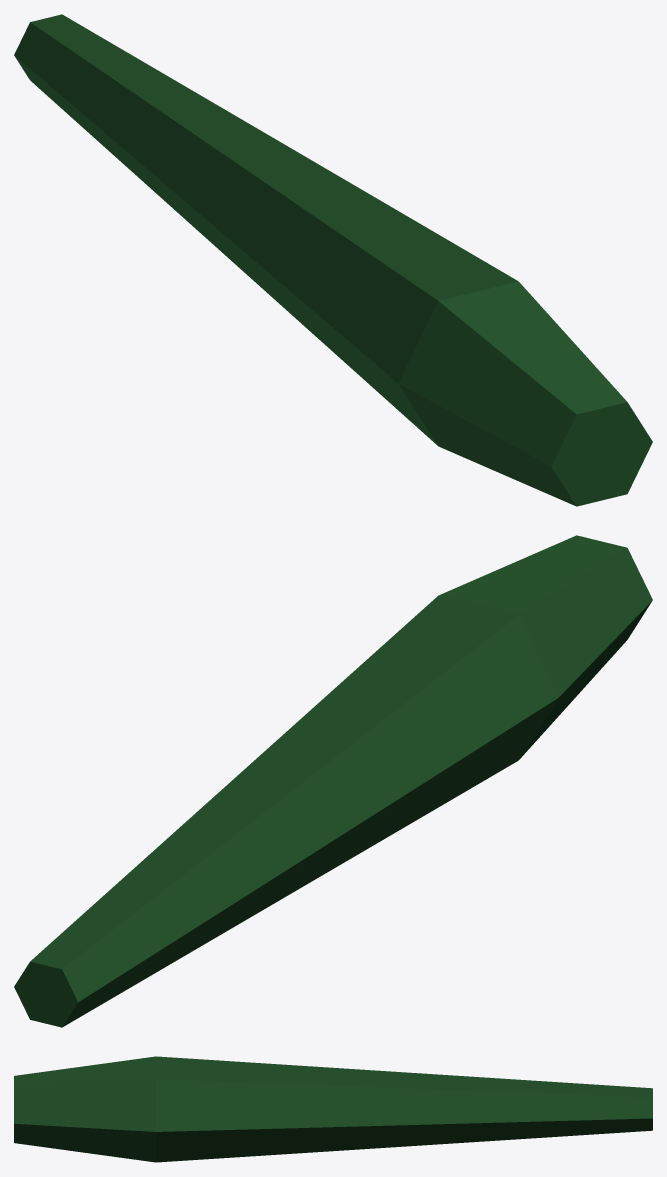
The model's file is I01_Dragonfly_Body.fbx.
3 views of the same model, one above another, from view 1: azimuth 30°, elevation 25°; view 2: azimuth 150°, elevation 25°; view 3: azimuth 270°, elevation 25° (orthographic). The views are drawn at different scales.
Visible parts, largest first — view 1: I01_Dragonfly_Body; view 2: I01_Dragonfly_Body; view 3: I01_Dragonfly_Body.
Part boxes in pixels (box(x1,y1,x2,y2)): I01_Dragonfly_Body: box(14, 14, 652, 506); I01_Dragonfly_Body: box(14, 535, 652, 1027); I01_Dragonfly_Body: box(14, 1056, 652, 1162).
Size of the model in its own units: 0.06 by 0.052 by 0.36.
1 material, 1 textured.
